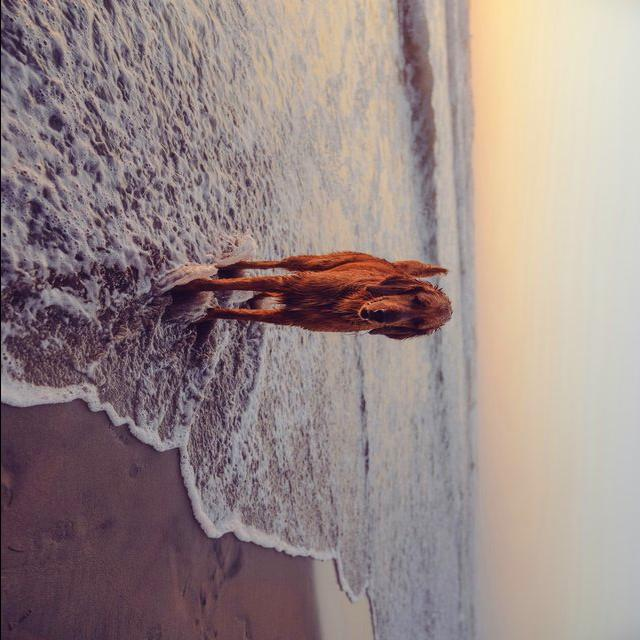retriever: (176, 251, 454, 342)
